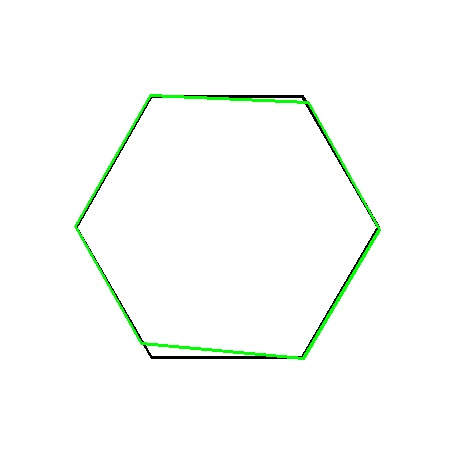line_segment: (75, 94, 380, 360)
